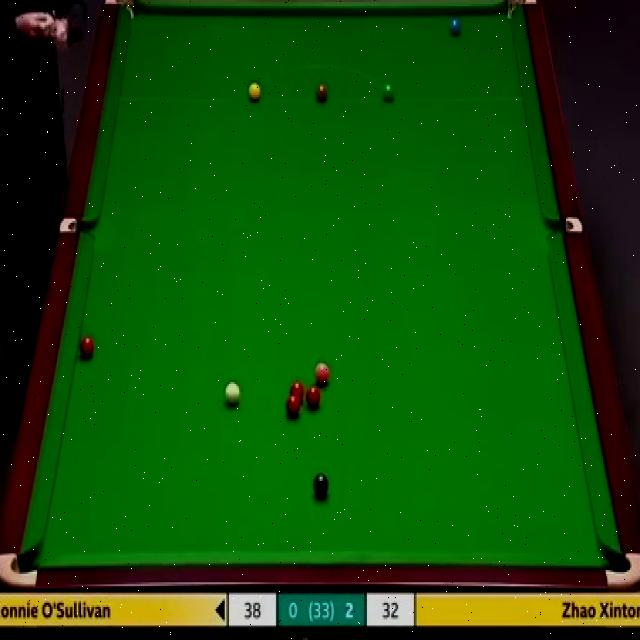black-ball: (312, 472, 329, 499)
blue-ball: (448, 17, 462, 35)
brown-ball: (314, 81, 329, 103)
green-ball: (380, 82, 395, 104)
pink-ball: (313, 360, 331, 386)
red-ball: (78, 336, 95, 360), (305, 385, 321, 409), (284, 394, 300, 417), (290, 380, 305, 401)
white-ball: (223, 380, 241, 408)
yellow-ball: (248, 80, 262, 102)
